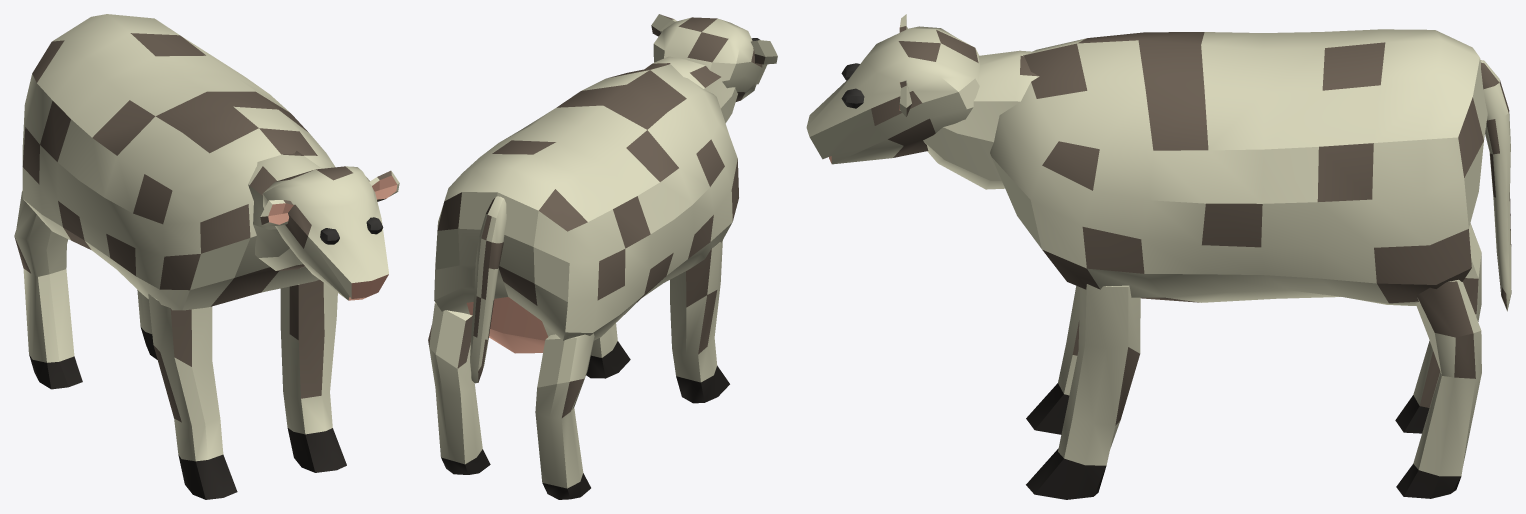
File: 3D_Cow.fbx
3 views of the same model, side by side, from view 1: azimuth 30°, elevation 25°; view 2: azimuth 150°, elevation 25°; view 3: azimuth 270°, elevation 25° (orthographic). The views are drawn at different scales.
Visible parts, largest first — view 1: Cow; view 2: Cow; view 3: Cow.
Boxes of the visible parts, left/top/right/bottom form: Cow: left=14, top=14, right=399, bottom=499; Cow: left=428, top=14, right=777, bottom=499; Cow: left=806, top=14, right=1511, bottom=499.
Size of the model in its own units: 390 by 961 by 631.
